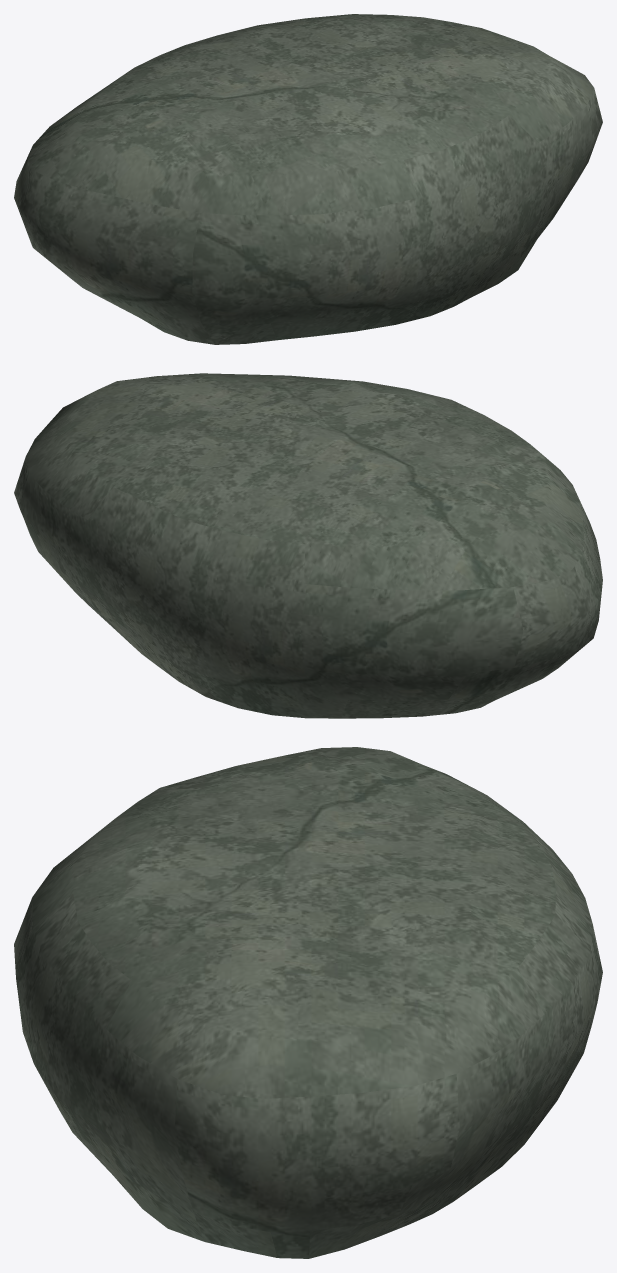
File: resting-stone.desktop.glb
The picture shows the model from 3 angles, top to bottom: view 1: azimuth 30°, elevation 25°; view 2: azimuth 150°, elevation 25°; view 3: azimuth 270°, elevation 25°; orthographic projection. The views are drawn at different scales.
Visible parts, largest first — view 1: SA_C02_MESH_60; view 2: SA_C02_MESH_60; view 3: SA_C02_MESH_60.
Part boxes in pixels (<box>): SA_C02_MESH_60: <box>14,14,602,344</box>; SA_C02_MESH_60: <box>14,373,602,718</box>; SA_C02_MESH_60: <box>14,747,602,1258</box>.
Bounding box in the file's own units: 1.24 × 0.429 × 0.865.
Materials: 1 (1 with a texture image).
